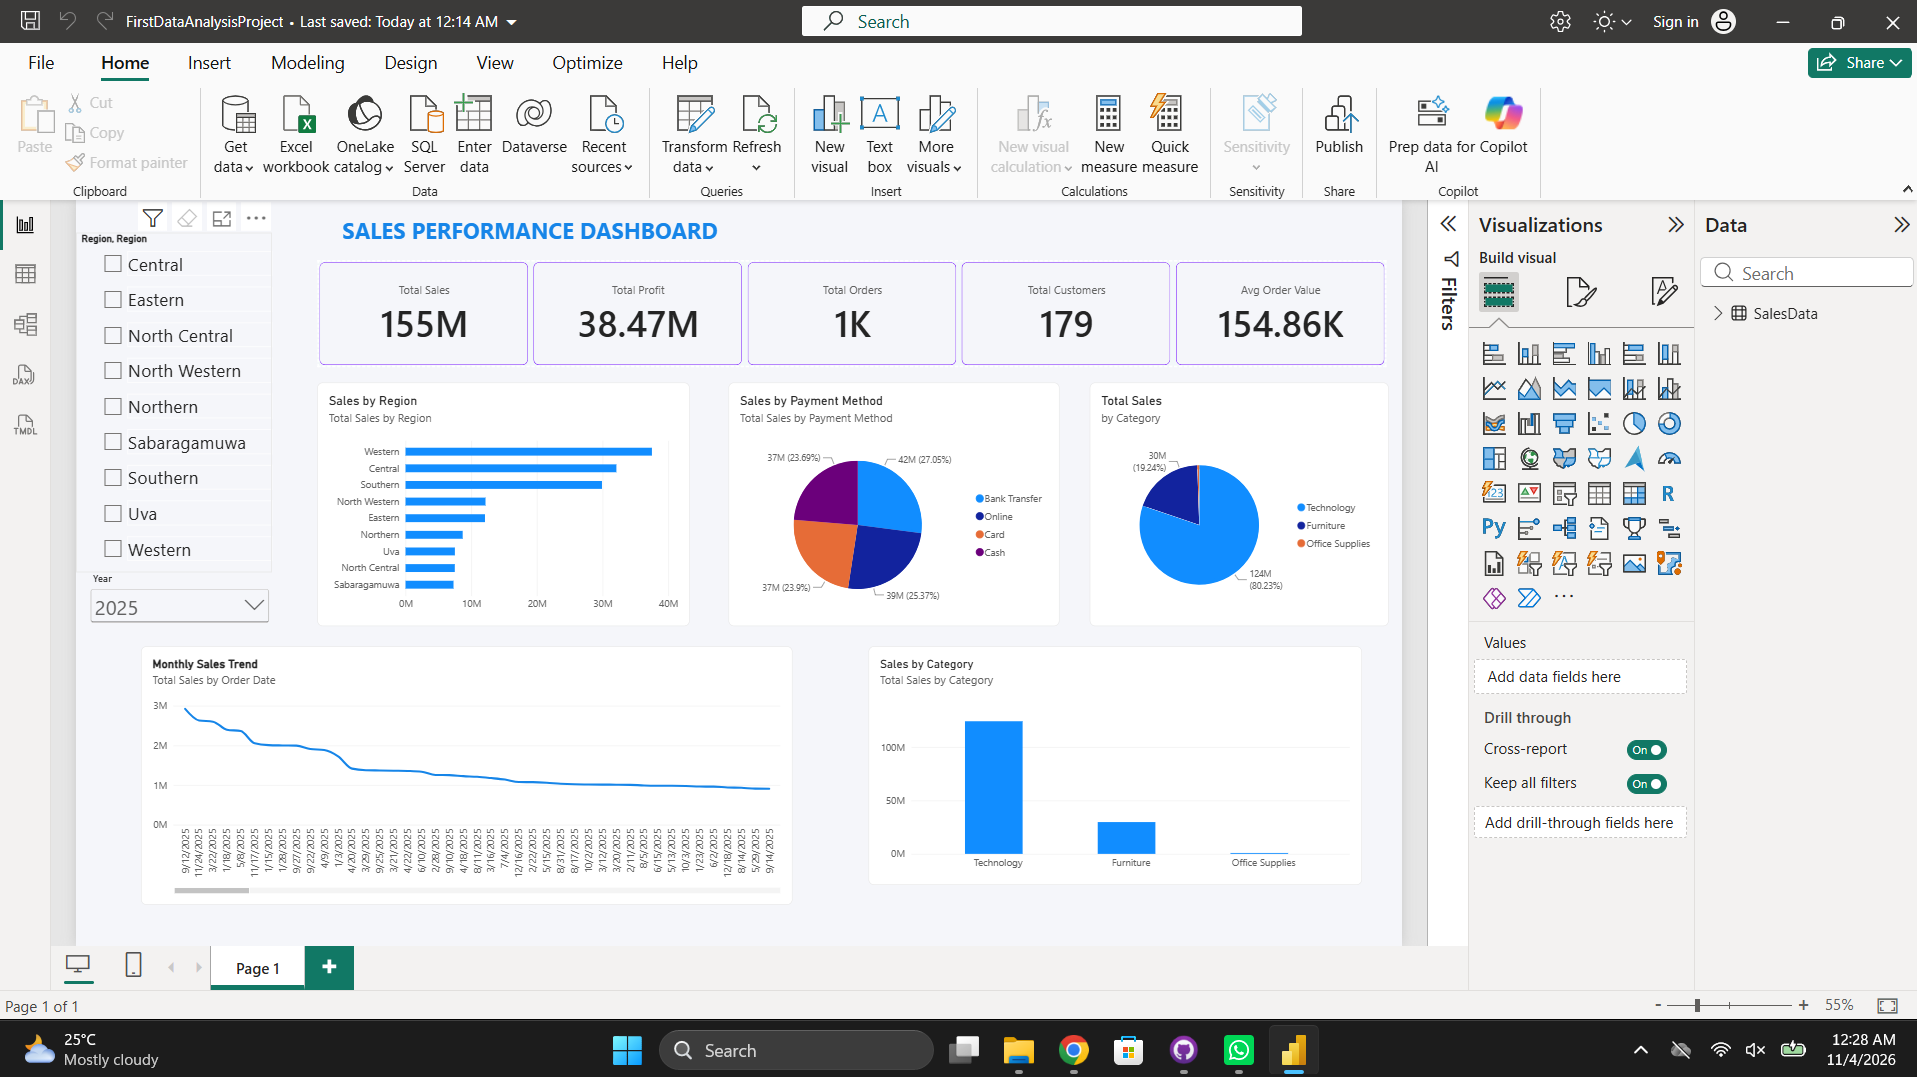

Layout of this report page (visuals, bound fields, positions):
{"tool":"powerbi","page":{"name":"Page 1","canvas":[1920,1080],"ordinal":0},"visuals":[{"type":"cardVisual","fields":{"Data":["SalesData.Total Sales","SalesData.Total Profit","SalesData.Total Orders","SalesData.Total Customers","SalesData.Avg Order Value"]},"box":[349.3,86.9,1550.9,155.6],"z":0},{"type":"lineChart","title":"Monthly Sales Trend","fields":{"Category":["SalesData.Order Date"],"Y":["SalesData.Total Sales"]},"box":[94.1,646,942.8,374.6],"z":1000},{"type":"clusteredColumnChart","title":"Sales by Category","fields":{"Category":["SalesData.Category"],"Y":["SalesData.Total Sales"]},"box":[1146.5,646.3,714.2,345.8],"z":2000},{"type":"clusteredBarChart","title":"Sales by Region","fields":{"Category":["SalesData.Region"],"Y":["SalesData.Total Sales"]},"box":[349.3,264.2,539.3,352.9],"z":3000},{"type":"pieChart","title":"Sales by Payment Method","fields":{"Category":["SalesData.Payment Method"],"Y":["SalesData.Total Sales"]},"box":[944.6,264.2,479.6,352.9],"z":4000},{"type":"pieChart","fields":{"Category":["SalesData.Category"],"Y":["SalesData.Total Sales"]},"box":[1467.6,264.2,432.5,352.9],"z":5000},{"type":"slicer","fields":{"Values":["SalesData.Year"]},"box":[16.3,539.3,267.8,77.8],"z":6000},{"type":"slicer","fields":{"Values":["SalesData.Region","SalesData.Region"]},"box":[0,47.1,284,491.9],"z":7000},{"type":"textbox","box":[385.5,21.7,622.5,52.5],"z":8000}]}

Visuals, with their boxes on the page's 1920x1080 design canvas (x1, y1, x2, y2). These are canvas units, not pixel positions in the 1917x1077 screenshot, which may show the page scaled, cropped or inside an application window:
cardVisual - SalesData.Total Sales x SalesData.Total Profit: box(349, 87, 1900, 242)
"Monthly Sales Trend" lineChart: box(94, 646, 1037, 1021)
"Sales by Category" clusteredColumnChart: box(1146, 646, 1861, 992)
"Sales by Region" clusteredBarChart: box(349, 264, 889, 617)
"Sales by Payment Method" pieChart: box(945, 264, 1424, 617)
pieChart - SalesData.Category x SalesData.Total Sales: box(1468, 264, 1900, 617)
slicer - SalesData.Year: box(16, 539, 284, 617)
slicer - SalesData.Region x SalesData.Region: box(0, 47, 284, 539)
textbox: box(386, 22, 1008, 74)
